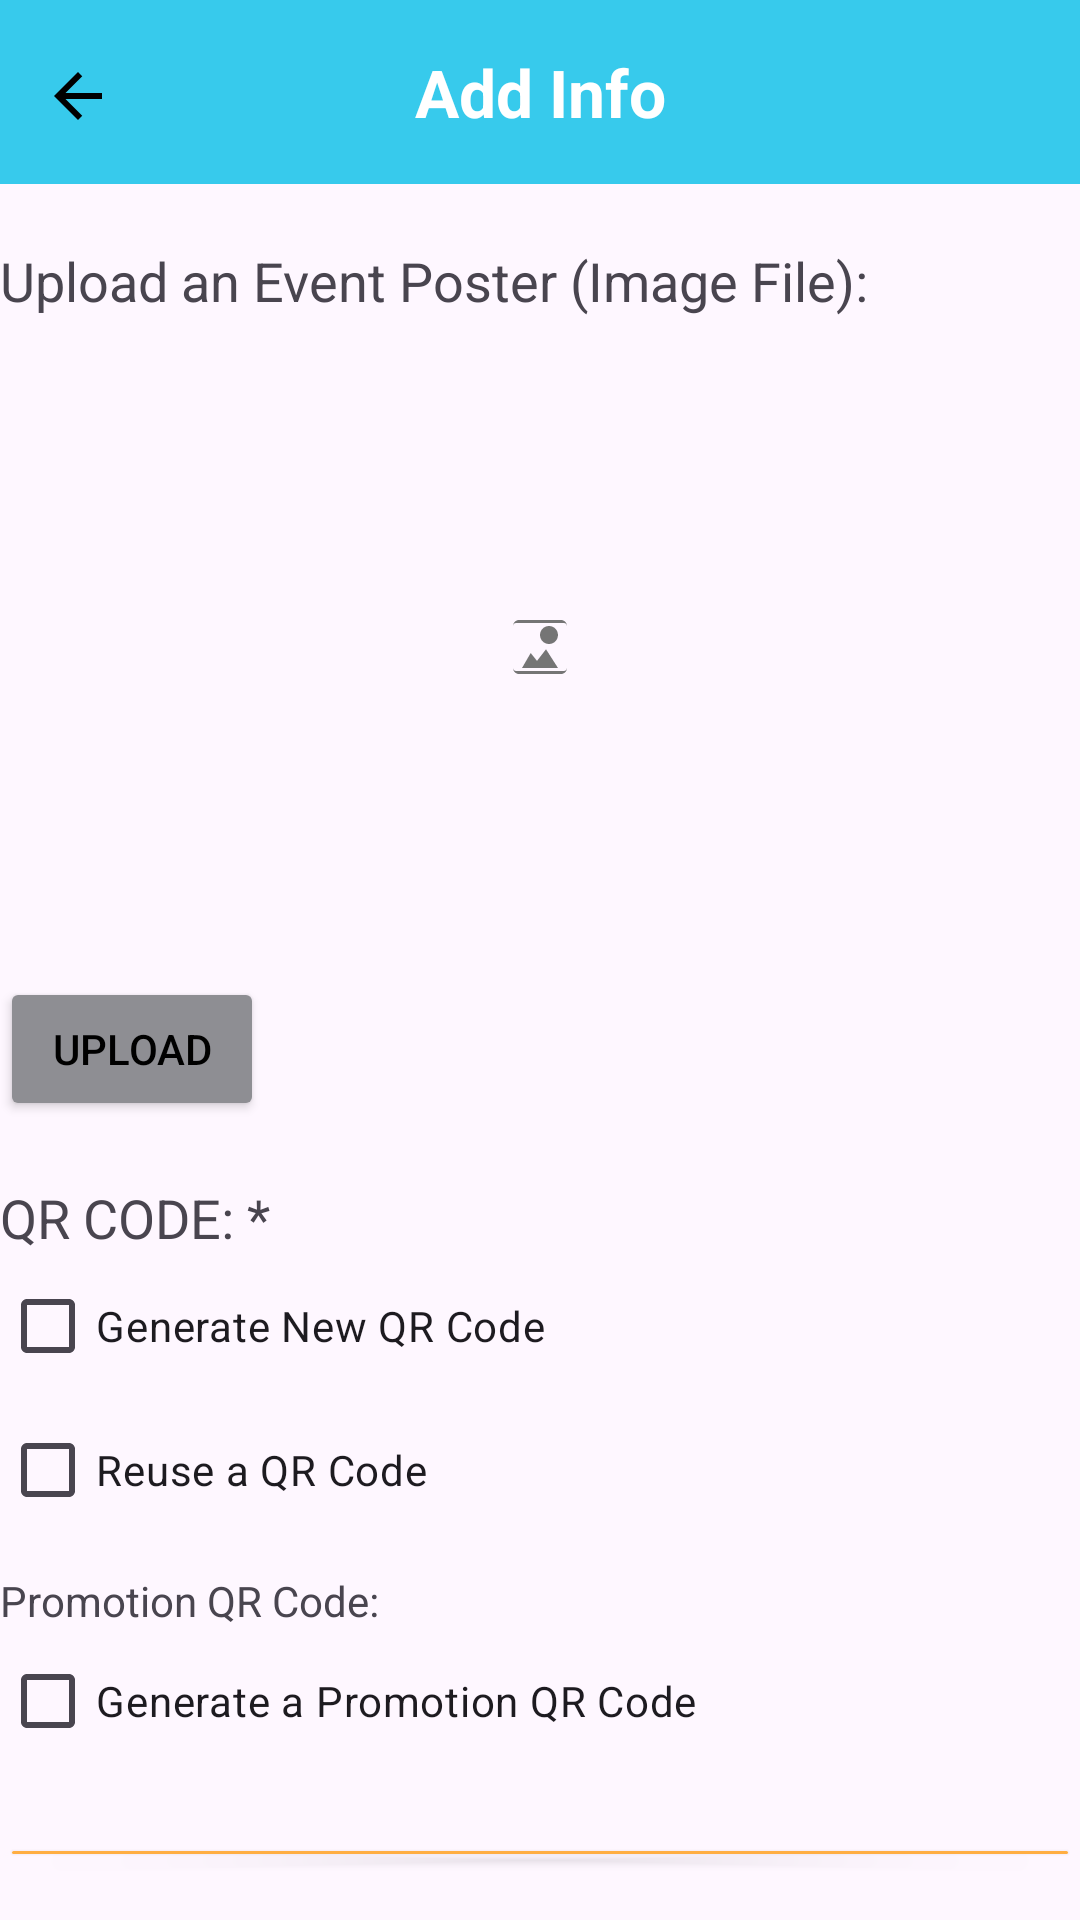

Screen size 1080px x 1920px. Icon name, then its box in pixels as [x1, y1, x2, y2]:
go back to previous page: [54, 72, 102, 120]
